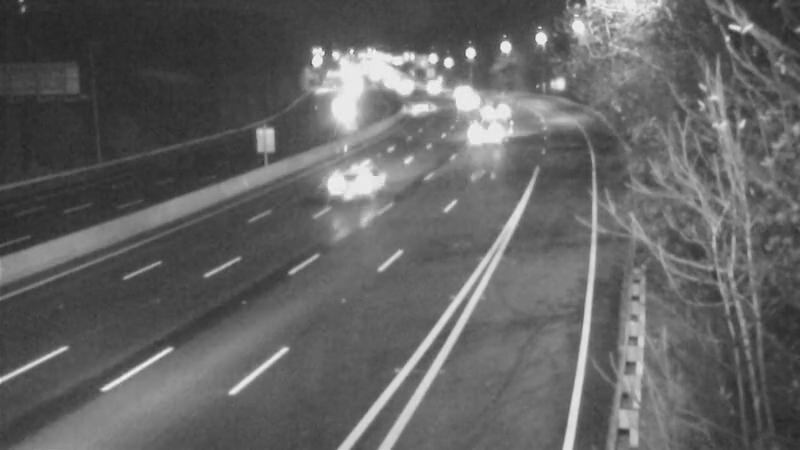vehicle: (312, 137, 392, 217), (409, 60, 459, 110), (439, 63, 489, 113), (440, 78, 490, 128), (387, 82, 437, 132), (463, 86, 513, 136), (451, 105, 501, 155), (314, 86, 364, 136)
